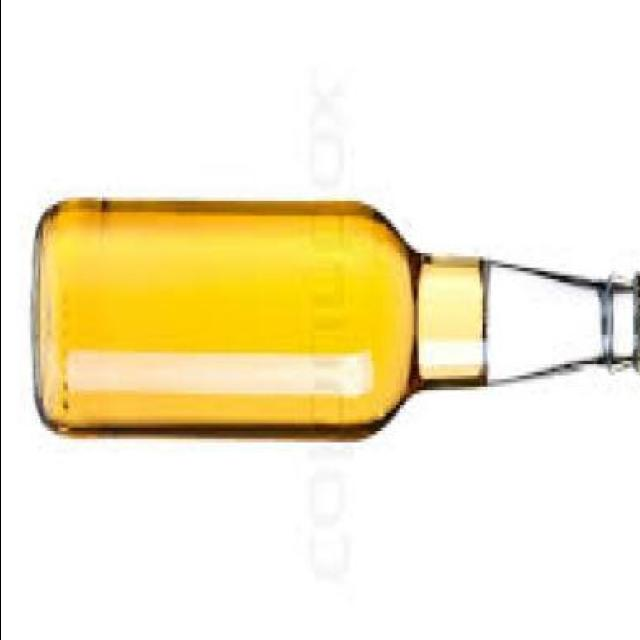kaca: (34, 200, 640, 442)
